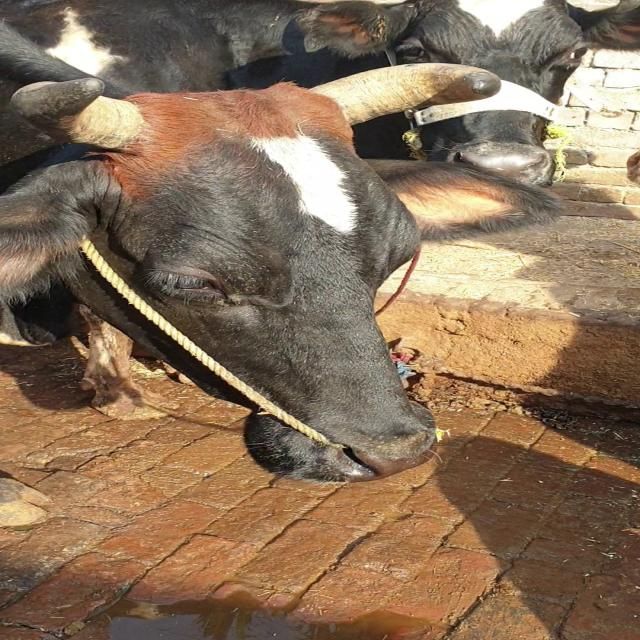cowFace: (34, 96, 458, 481), (373, 0, 640, 202)
